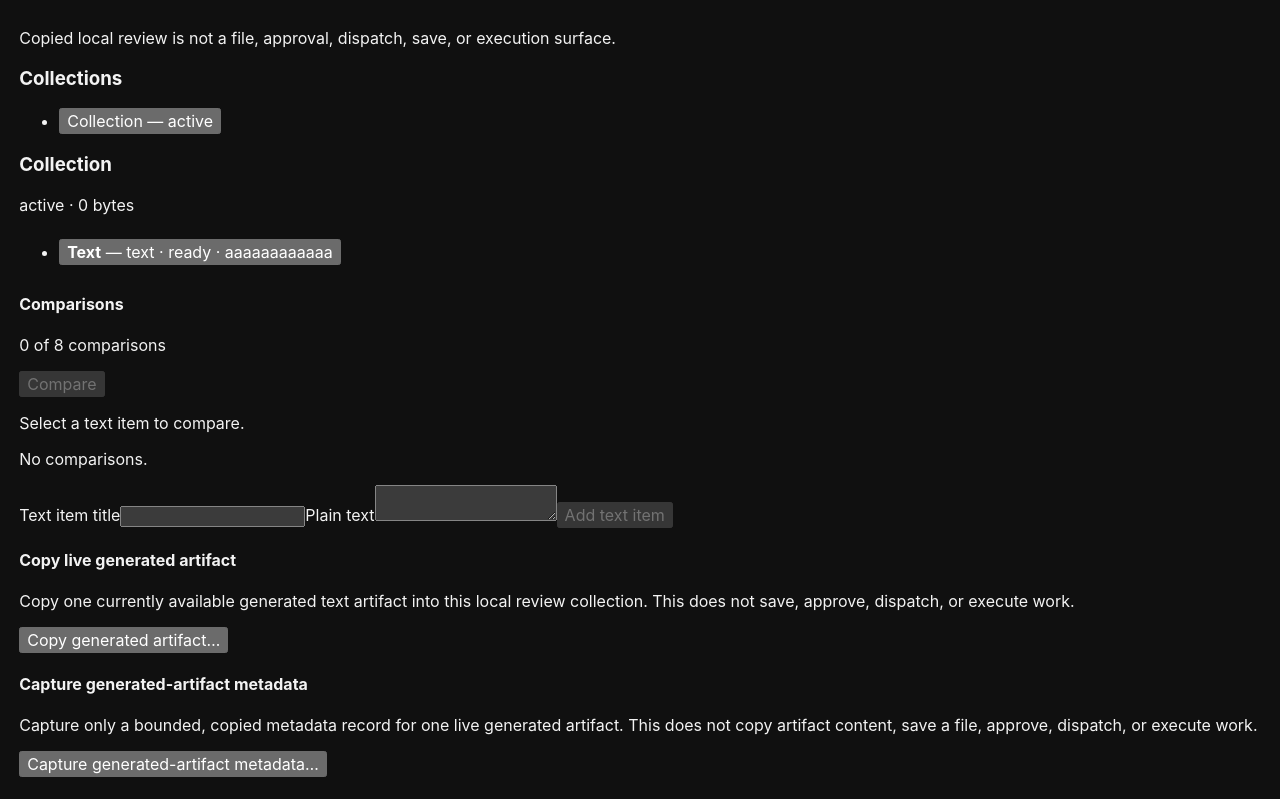
Test: local review image pane › renders json text only as inert JSON source
Click the button "Text — text" at (200, 252), box left=59, top=239, right=341, bottom=265
(page scrolled)
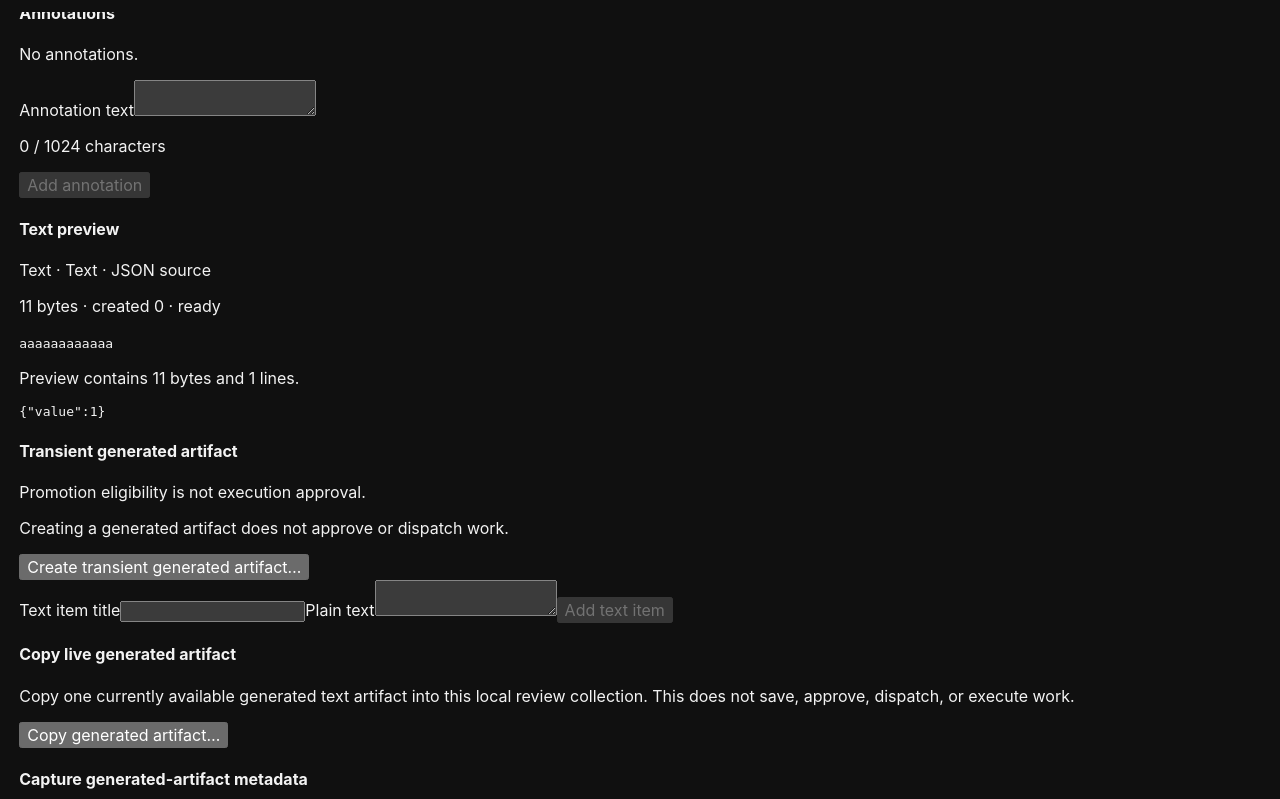
Result: the text "{\"value\":1}" is shown at left=19, top=404, right=105, bottom=420
